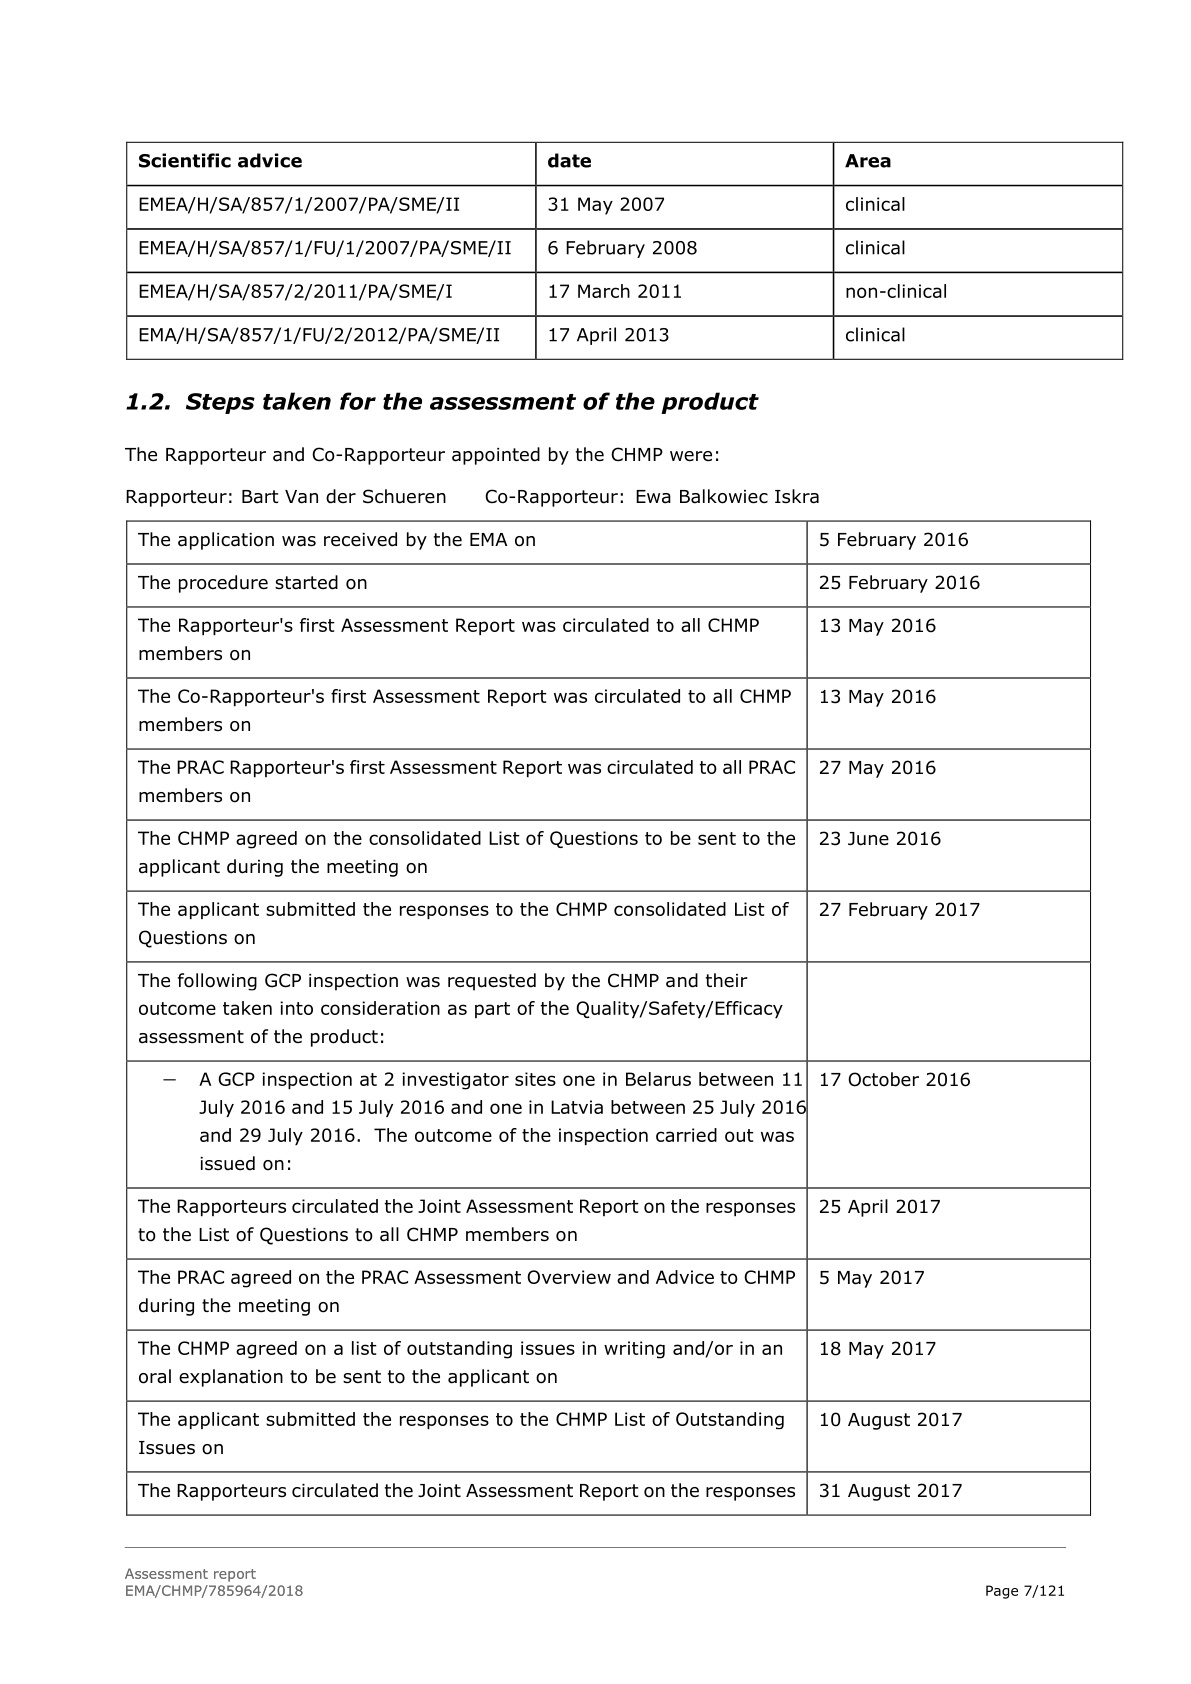full_lined: (125, 521, 1090, 1517), (124, 140, 1125, 361)
